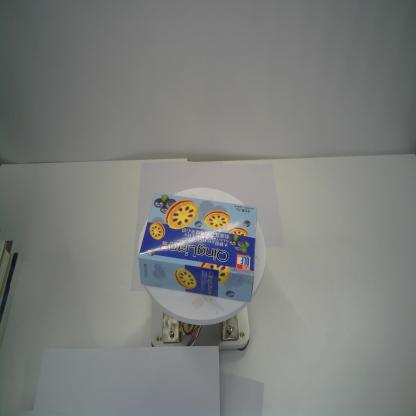Dessert: (137, 193, 258, 302)
